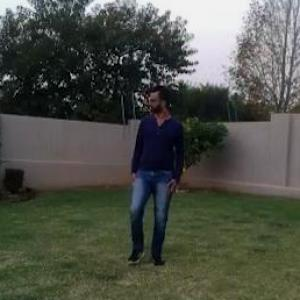follow: (127, 72, 184, 266)
